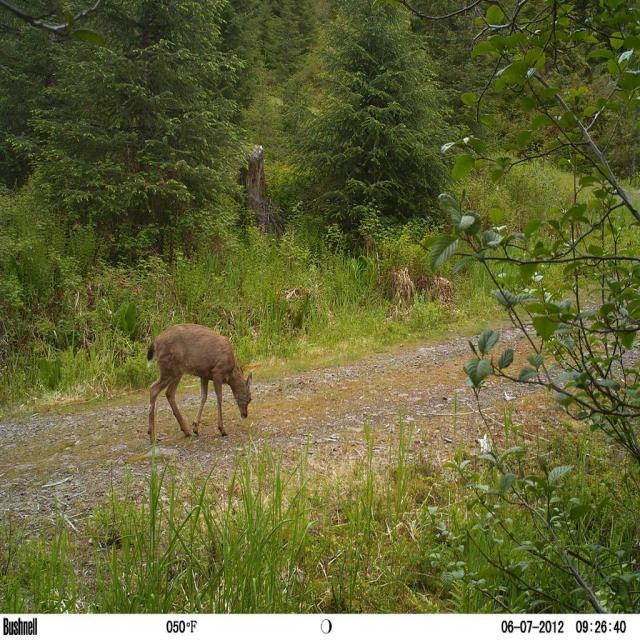Deer: (152, 325, 254, 446)
